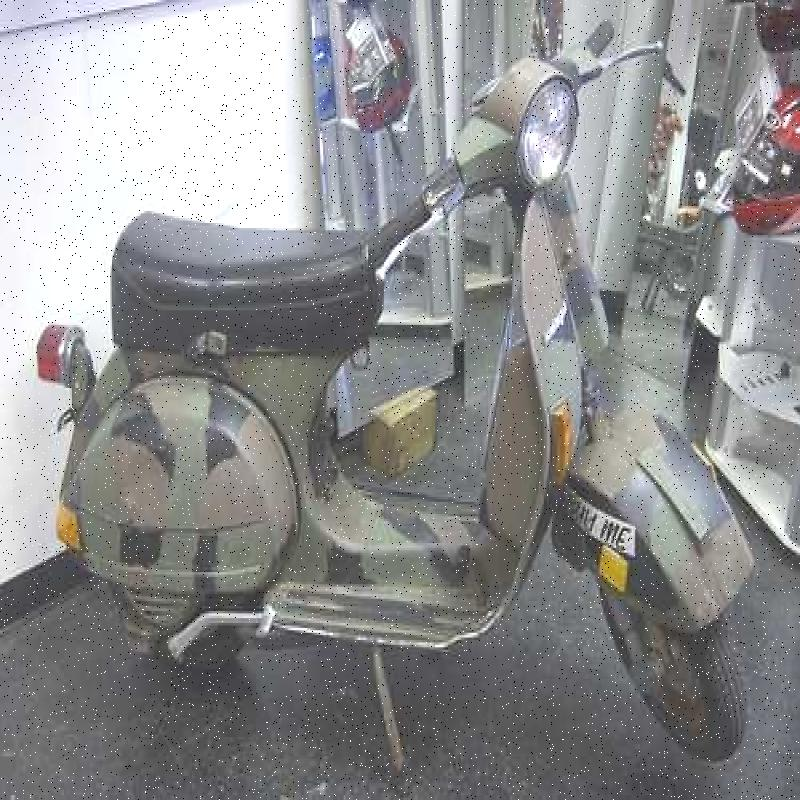bike: (56, 59, 746, 736)
